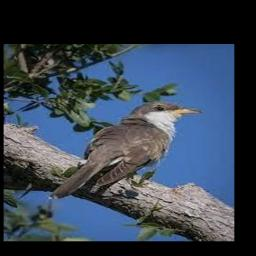Cuckoo: (47, 102, 201, 199)
